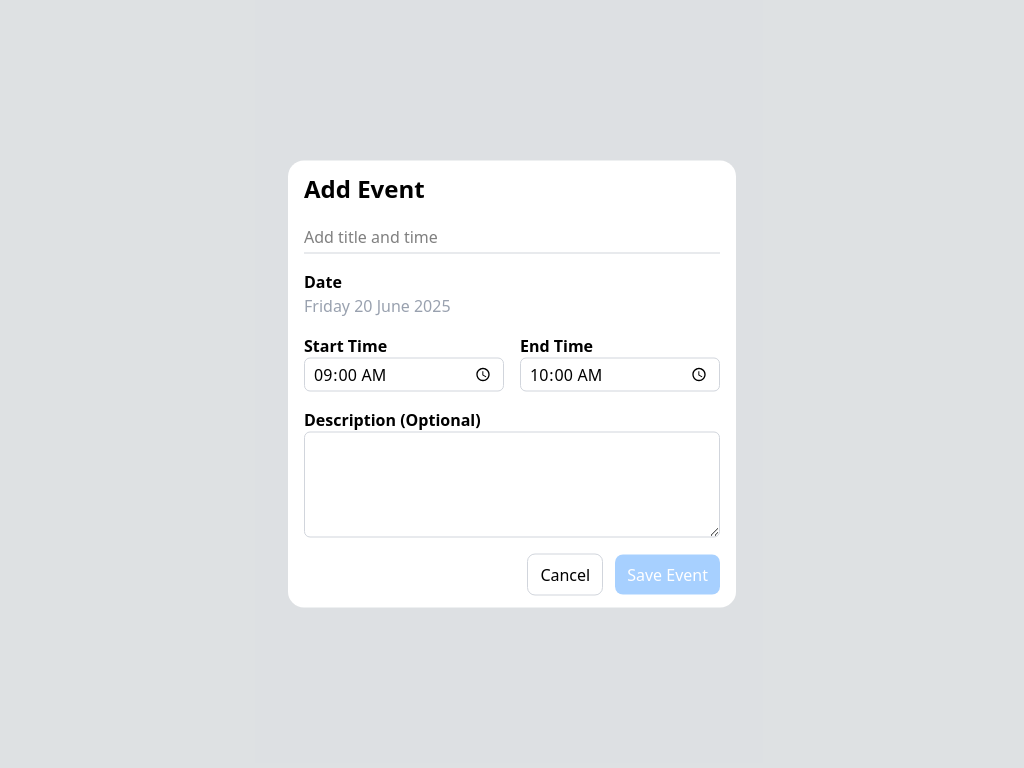
Test: CreateEvent › displays validation error when end time is earlier than start time
The image size is (1024, 768).
In the field with placeholder "Add title and time": (512, 237) [304, 220, 720, 254], type "Test Event"
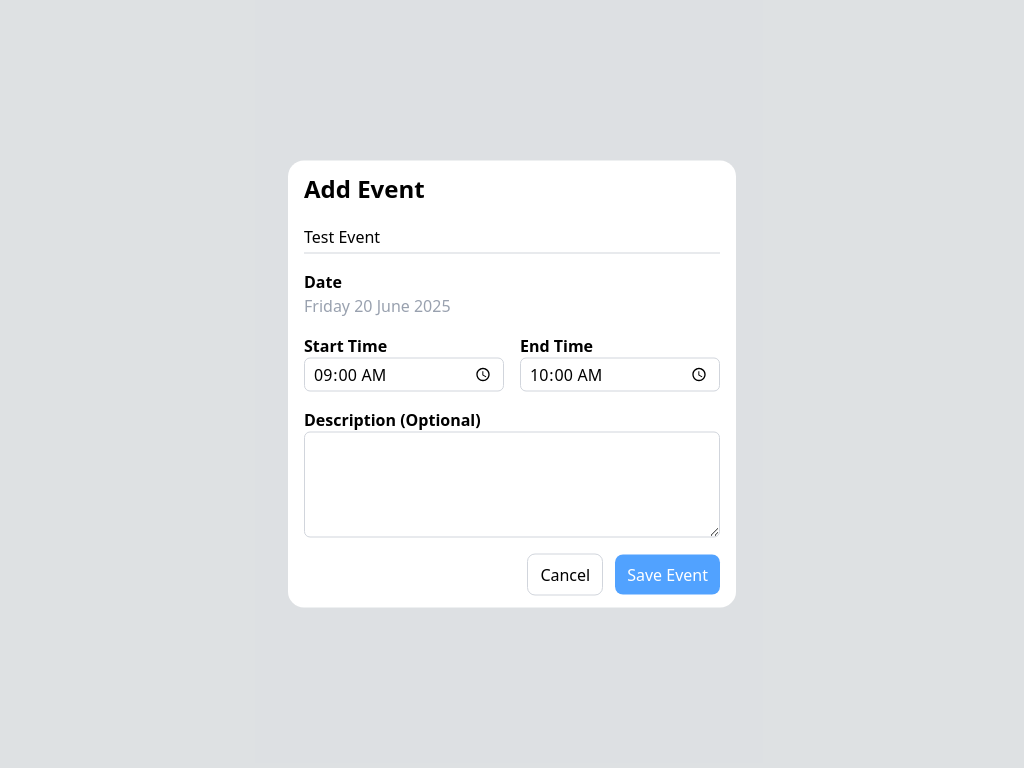
Replace the text in the time field labelled "start time" with "10:00": (404, 374) [304, 358, 504, 392]
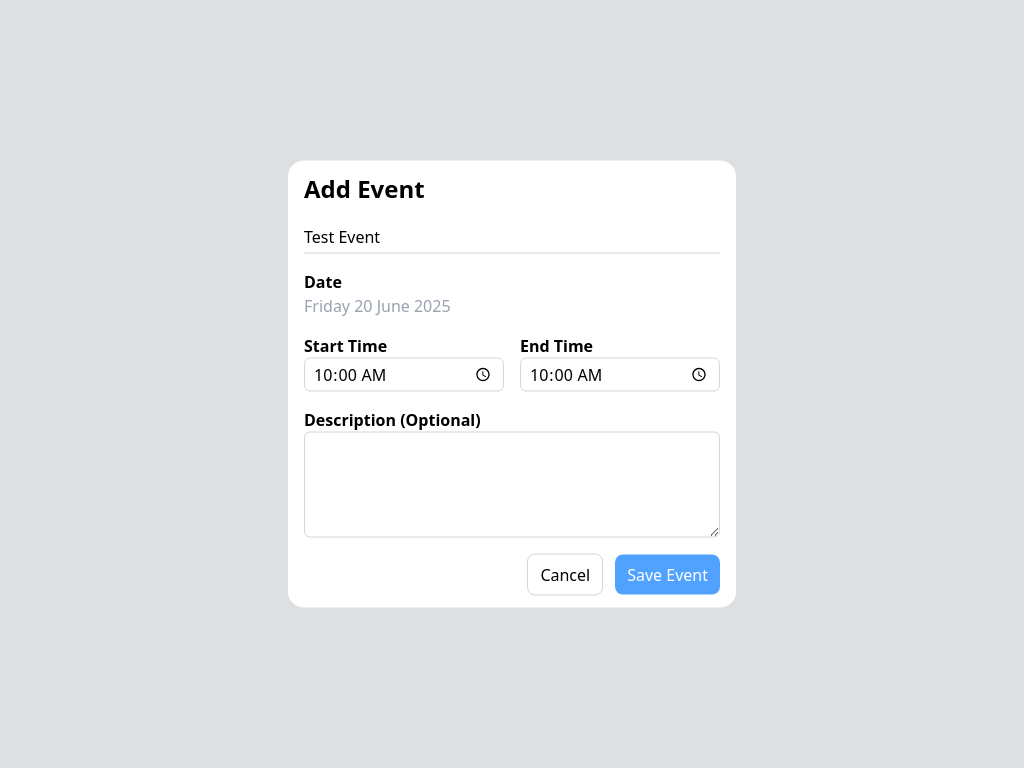
Replace the text in the time field labelled "end time" with "09:00": (620, 374) [520, 358, 720, 392]
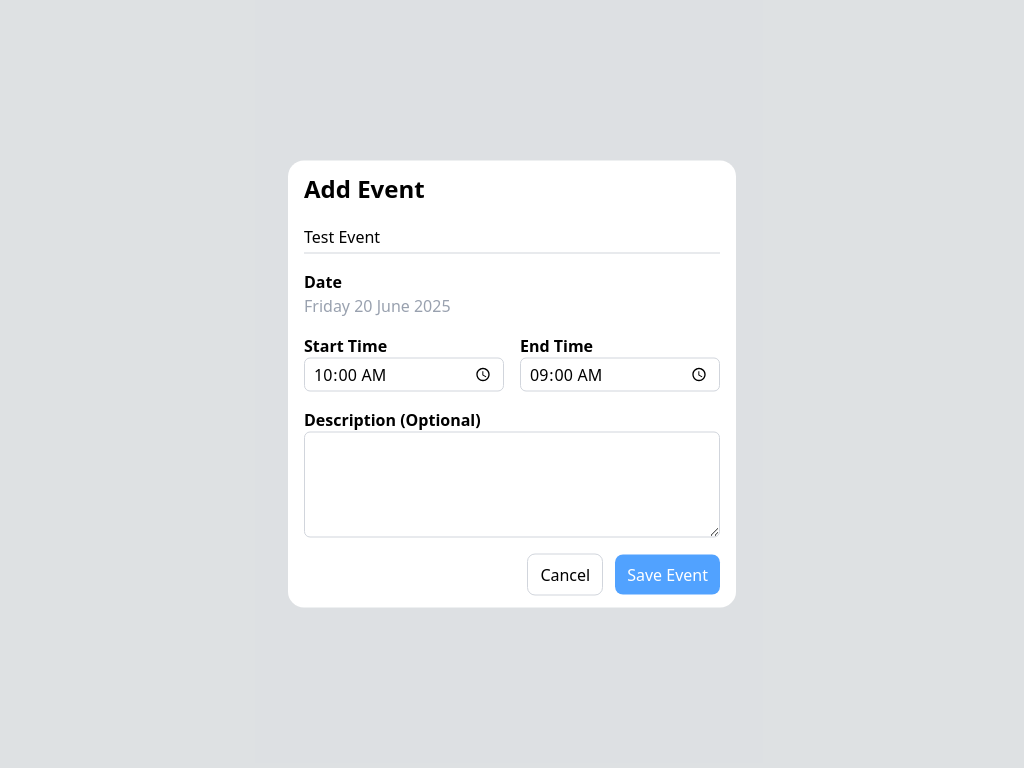
Click the button "save event": click(668, 574) [615, 554, 720, 594]
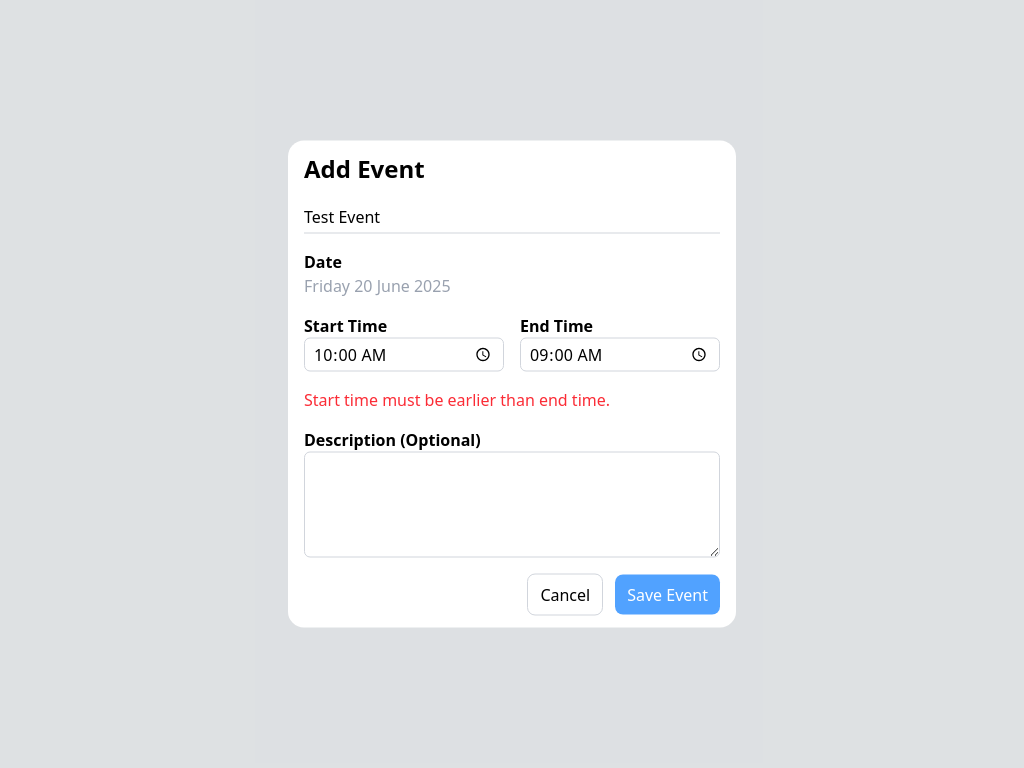
Result: the text "Start time must be earlier than end time." is shown at [304, 388, 610, 410]
